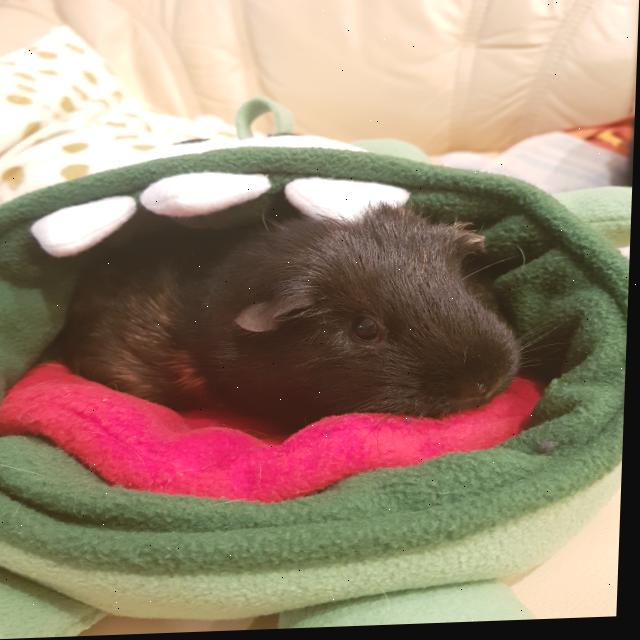guinea pig: (60, 179, 535, 439)
